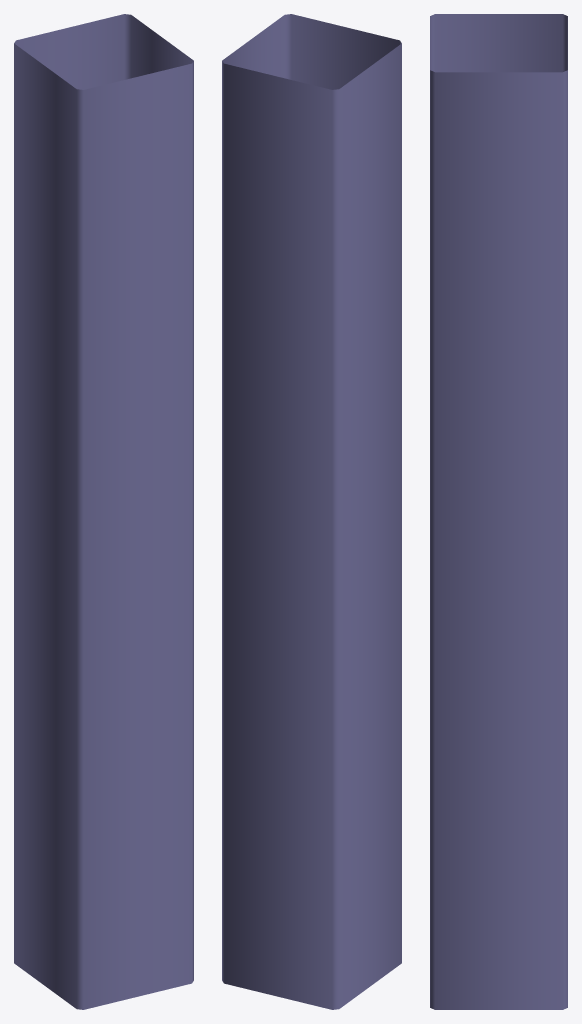
The model's file is M_A_column_02.fbx.
3 renders of one model, left to right at view 1: azimuth 30°, elevation 25°; view 2: azimuth 150°, elevation 25°; view 3: azimuth 270°, elevation 25°, orthographic.
Parts seen in each view (by area): view 1: M_A_column_02; view 2: M_A_column_02; view 3: M_A_column_02.
Boxes of the visible parts, bbox=[...] form: M_A_column_02: bbox=[14, 14, 193, 1009]; M_A_column_02: bbox=[222, 14, 401, 1009]; M_A_column_02: bbox=[430, 14, 567, 1009].
Size of the model in its own units: 40 by 300 by 40.
